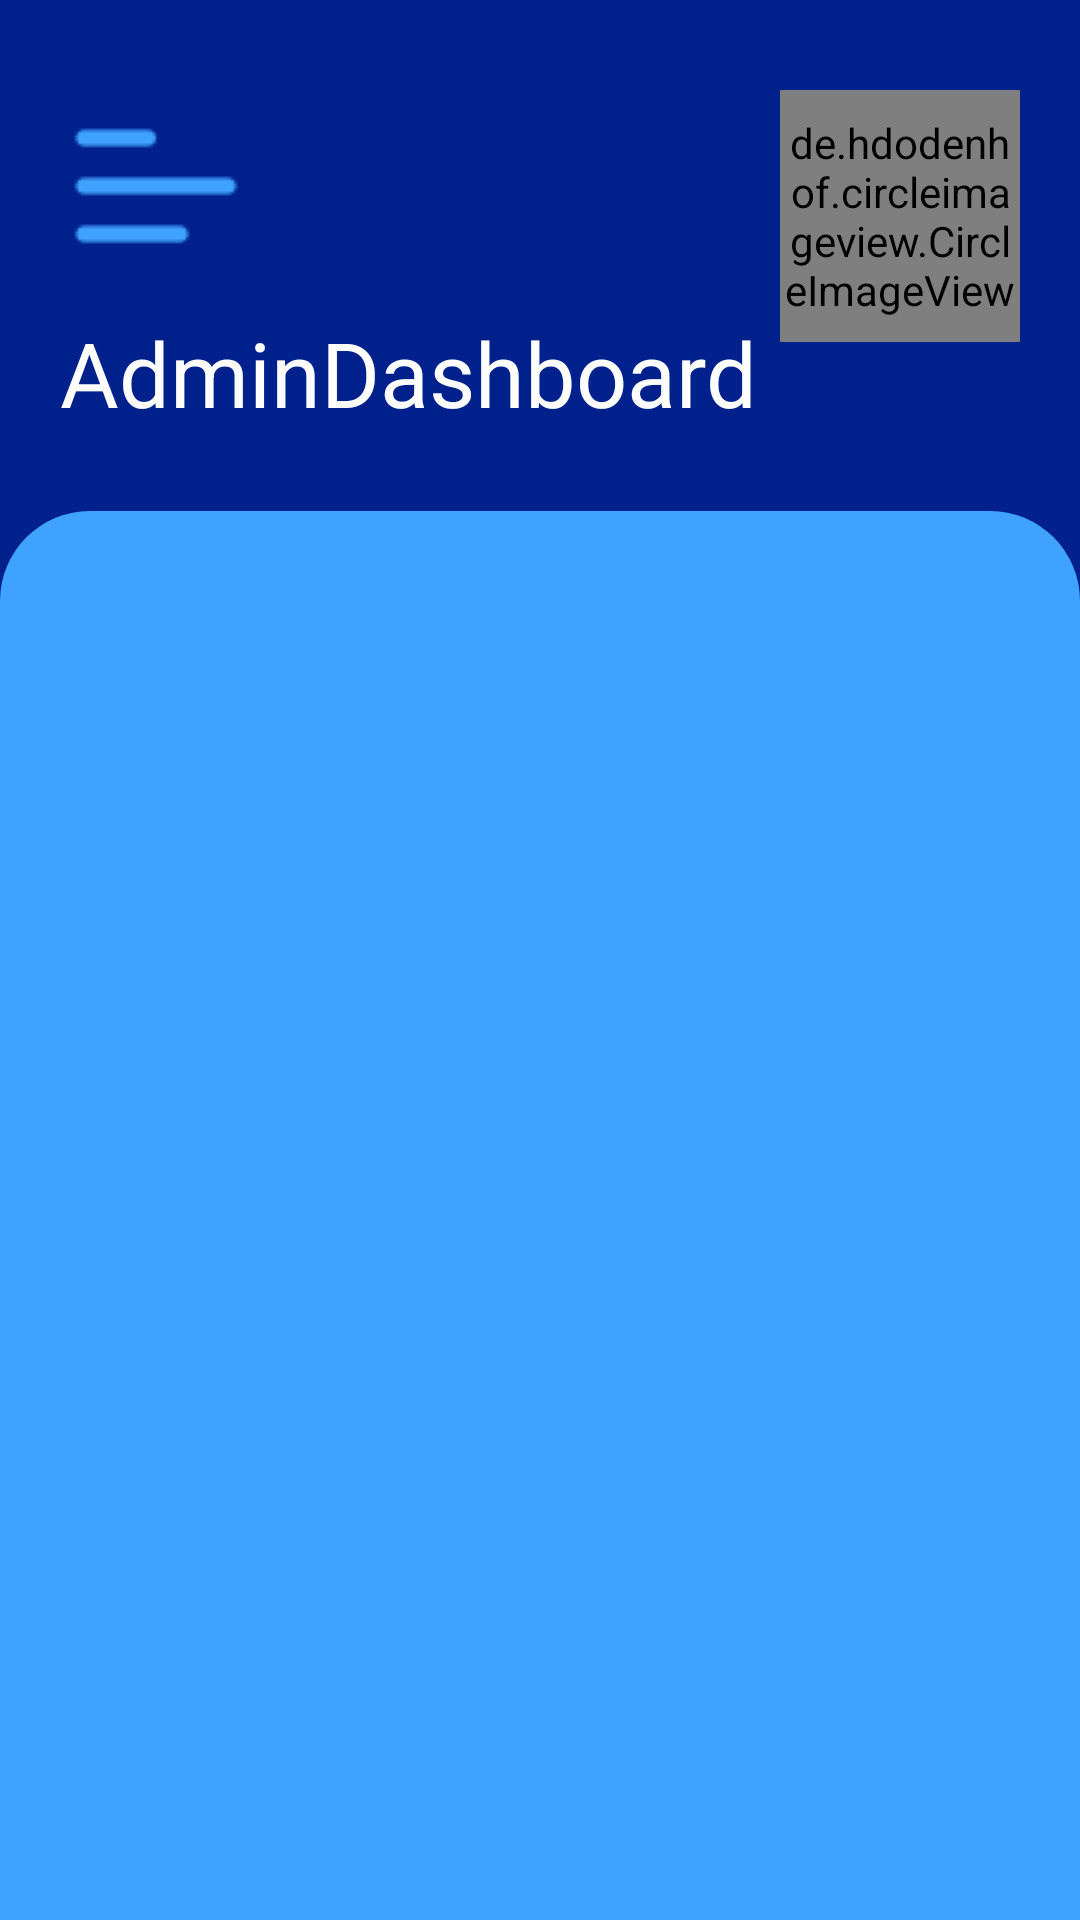

Icon bounding boxes for this 1080x1920 phone screenshot, format (x1, y1, x2, y2):
menu: (74, 128, 238, 244)
